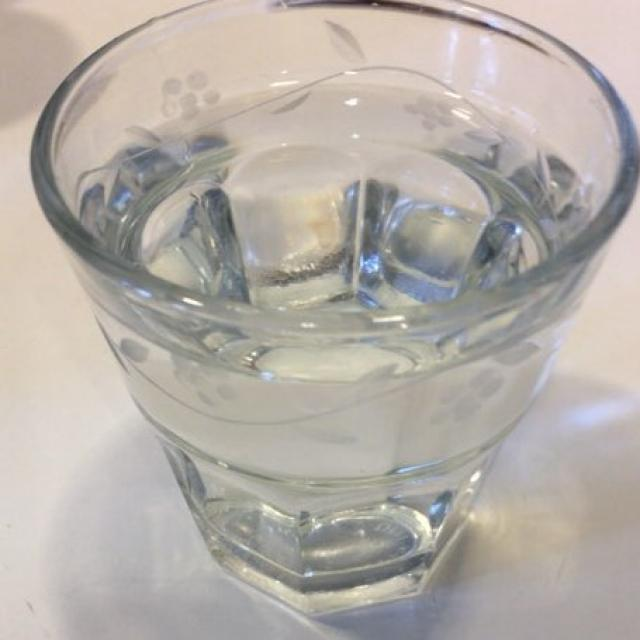water: (103, 108, 582, 362)
